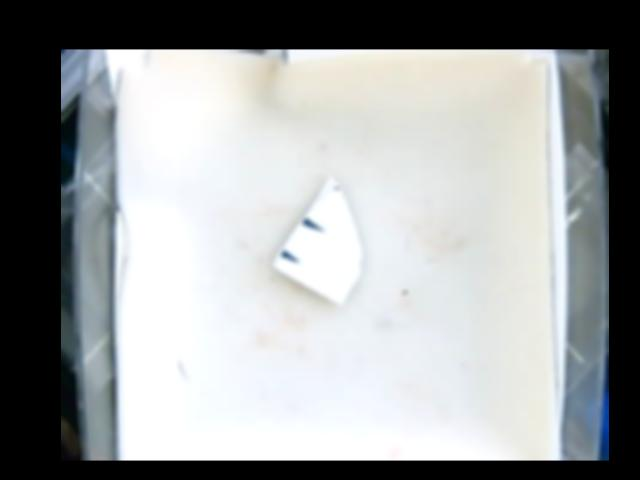China: (272, 177, 363, 308)
